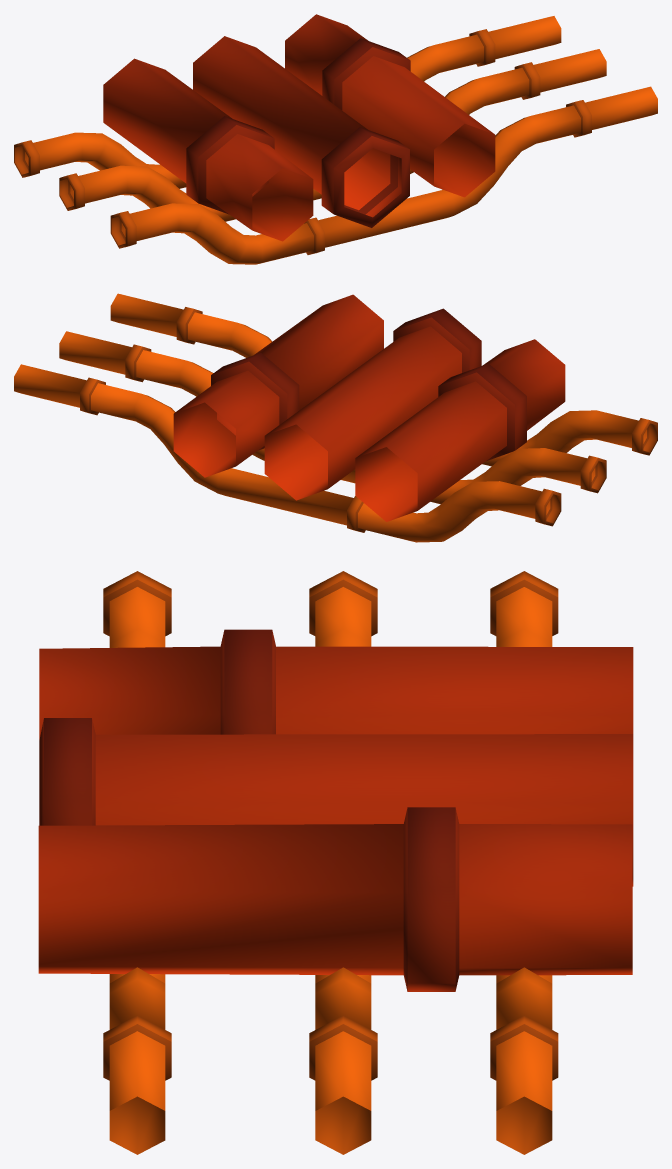
File: Tubulacoes.fbx
3 renders of one model, top to bottom at view 1: azimuth 30°, elevation 25°; view 2: azimuth 150°, elevation 25°; view 3: azimuth 270°, elevation 25°, orthographic. The views are drawn at different scales.
Visible parts, largest first — view 1: Tubulacoes; view 2: Tubulacoes; view 3: Tubulacoes.
Part boxes in pixels (left/top/right/bottom): Tubulacoes: left=14, top=14, right=657, bottom=264; Tubulacoes: left=14, top=293, right=657, bottom=542; Tubulacoes: left=38, top=571, right=633, bottom=1154.
Bounding box in the file's own units: 257 × 58.48 × 124.
